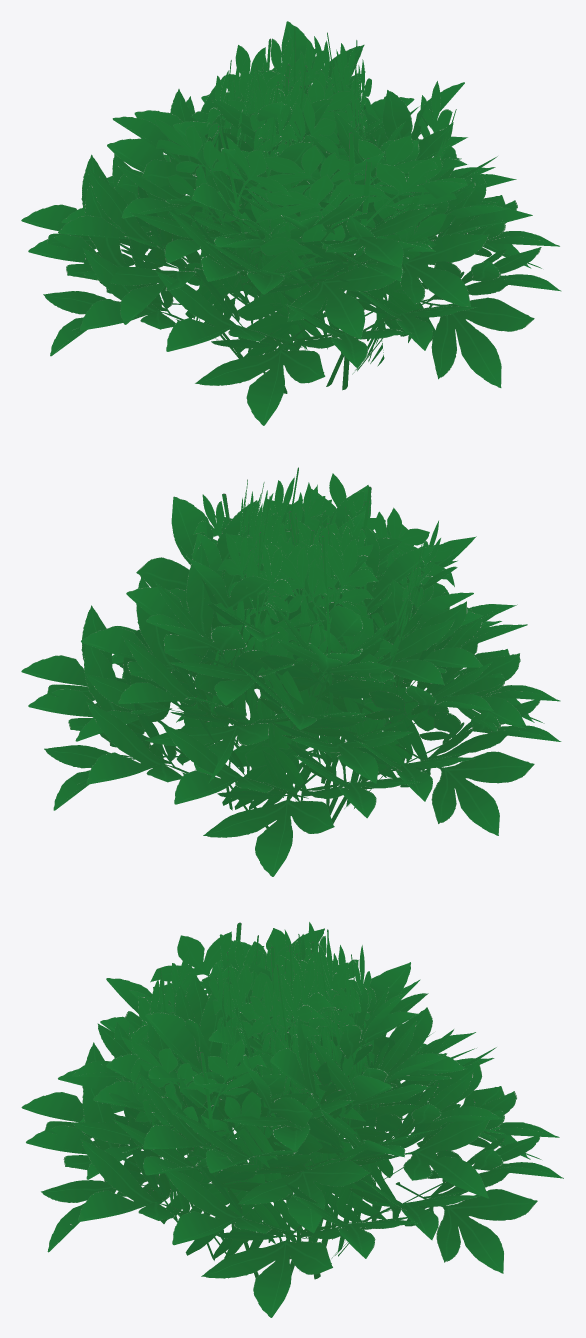
File: PT_Peony_02.fbx
3 renders of one model, top to bottom at view 1: azimuth 30°, elevation 25°; view 2: azimuth 150°, elevation 25°; view 3: azimuth 270°, elevation 25°, orthographic.
Visible parts, largest first — view 1: PT_Peony_02_LOD0; view 2: PT_Peony_02_LOD0; view 3: PT_Peony_02_LOD0.
Boxes of the visible parts, box(x1,y1,x2,y2) form: PT_Peony_02_LOD0: box(21, 21, 561, 425); PT_Peony_02_LOD0: box(21, 467, 561, 876); PT_Peony_02_LOD0: box(21, 922, 563, 1317).
Size of what is drawn, in the model's own units: 190 by 119 by 177.
